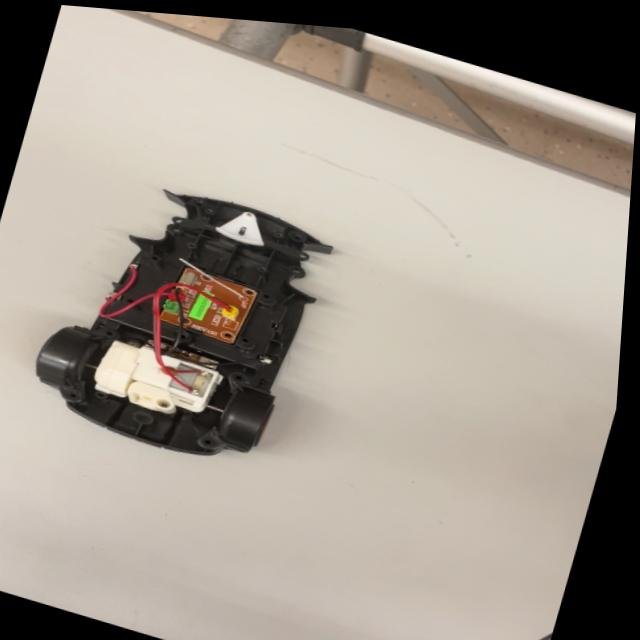Chassis: (25, 151, 335, 483)
